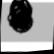correct: (4, 0, 37, 36)
